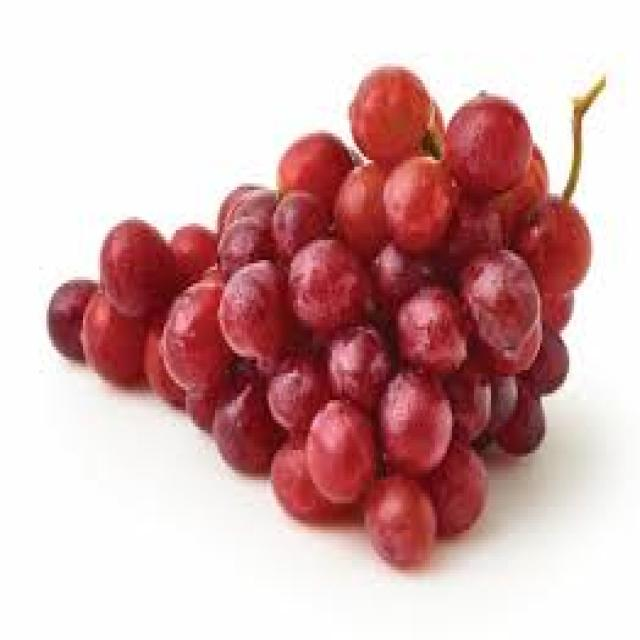Grapes: (274, 243, 373, 332), (357, 476, 442, 575), (393, 285, 478, 373), (453, 92, 528, 190), (471, 258, 547, 351), (72, 295, 152, 383), (386, 383, 456, 483), (310, 407, 381, 504), (203, 378, 276, 472), (94, 239, 177, 321), (165, 287, 232, 388), (356, 67, 426, 162), (386, 162, 459, 247), (522, 216, 595, 292), (223, 271, 283, 362)
